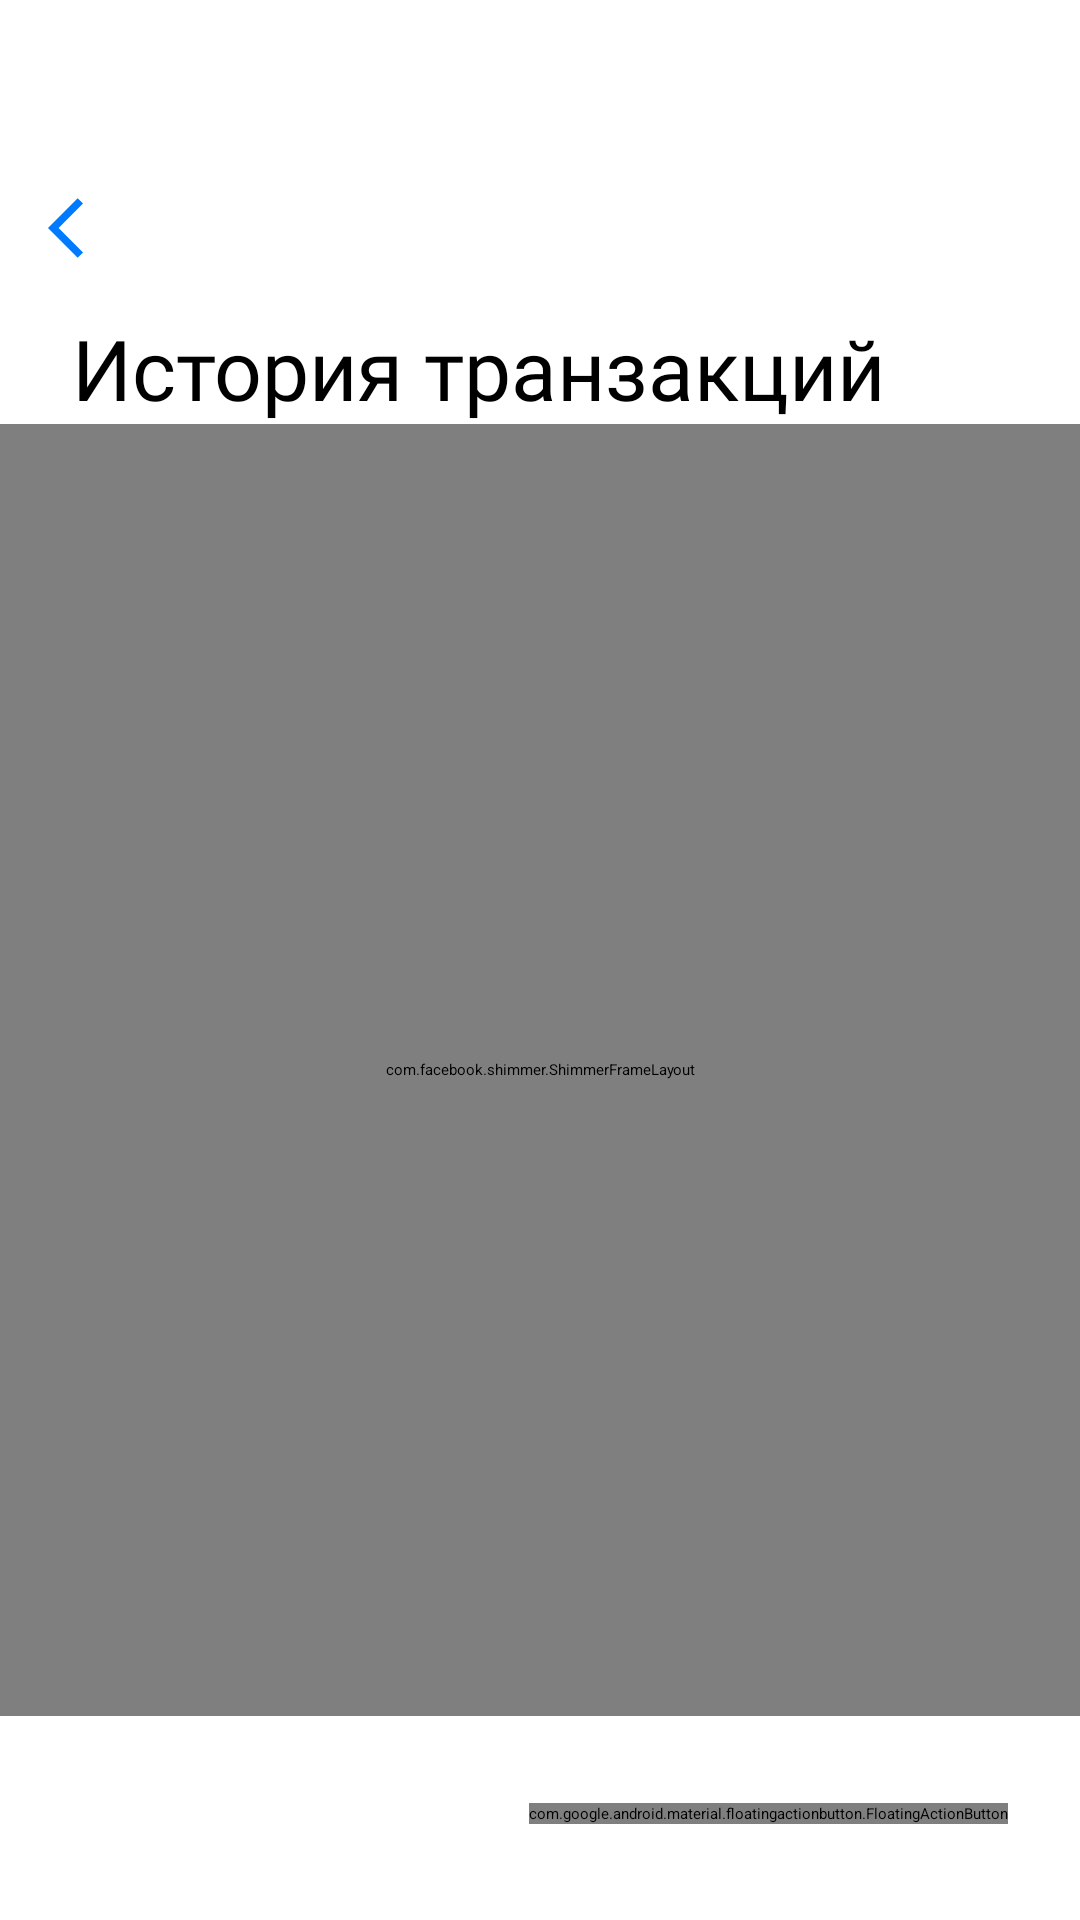

Named icons in this screenshot (1080x1920) and their centers, [x,y]:
back: [65,228]
